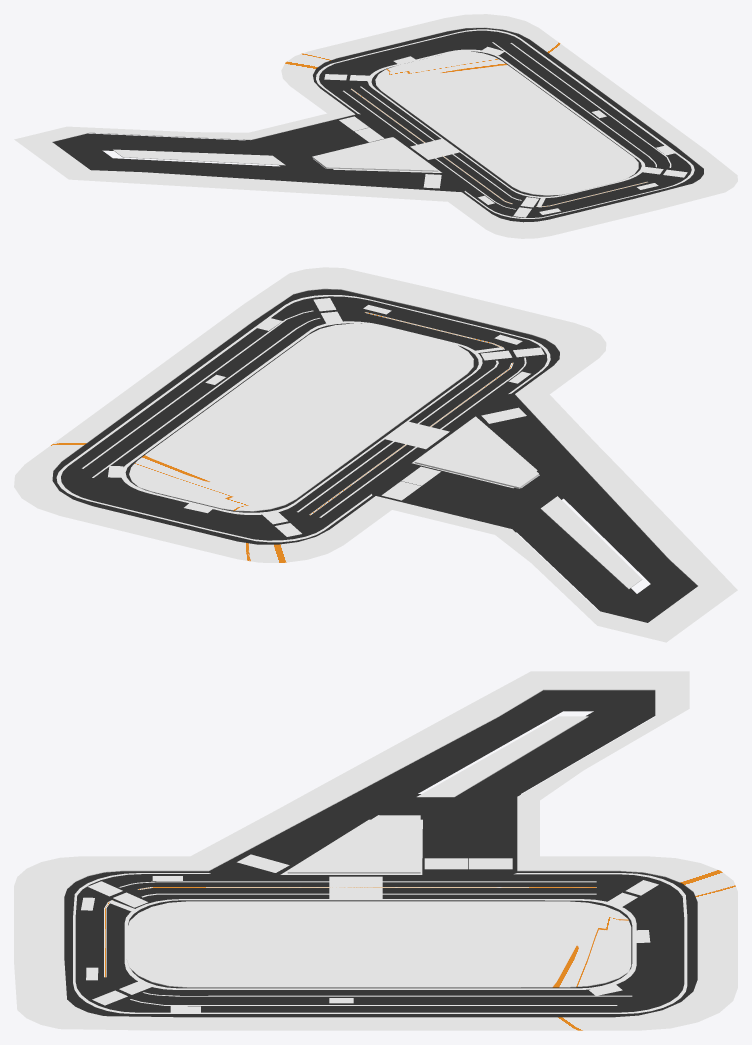
Rendered from StreetRoads.fbx.
3 renders of one model, top to bottom at view 1: azimuth 30°, elevation 25°; view 2: azimuth 150°, elevation 25°; view 3: azimuth 270°, elevation 25°, orthographic. The views are drawn at different scales.
Parts seen in each view (by area): view 1: CityRoadSignTrim.001; view 2: CityRoadSignTrim.001; view 3: CityRoadSignTrim.001.
Boxes of the visible parts, left/top/right/bottom form: CityRoadSignTrim.001: left=14, top=14, right=737, bottom=238; CityRoadSignTrim.001: left=14, top=267, right=737, bottom=642; CityRoadSignTrim.001: left=14, top=671, right=737, bottom=1030.
Bounding box in the file's own units: 73844 × 193 × 62905.
